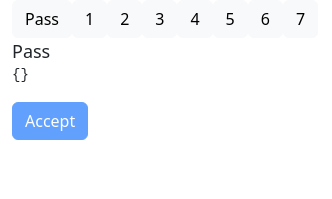
Test case: Component: score › should be valid after clicking "Pass"
Click the radio button named "level".
click(18, 6)  # box [12,0,25,13]
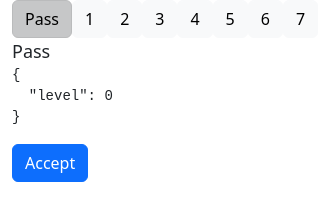
Expected: the text "Pass" is shown, [12,39,50,63]
Expected: the button "Accept" is enabled, [12,144,88,182]
